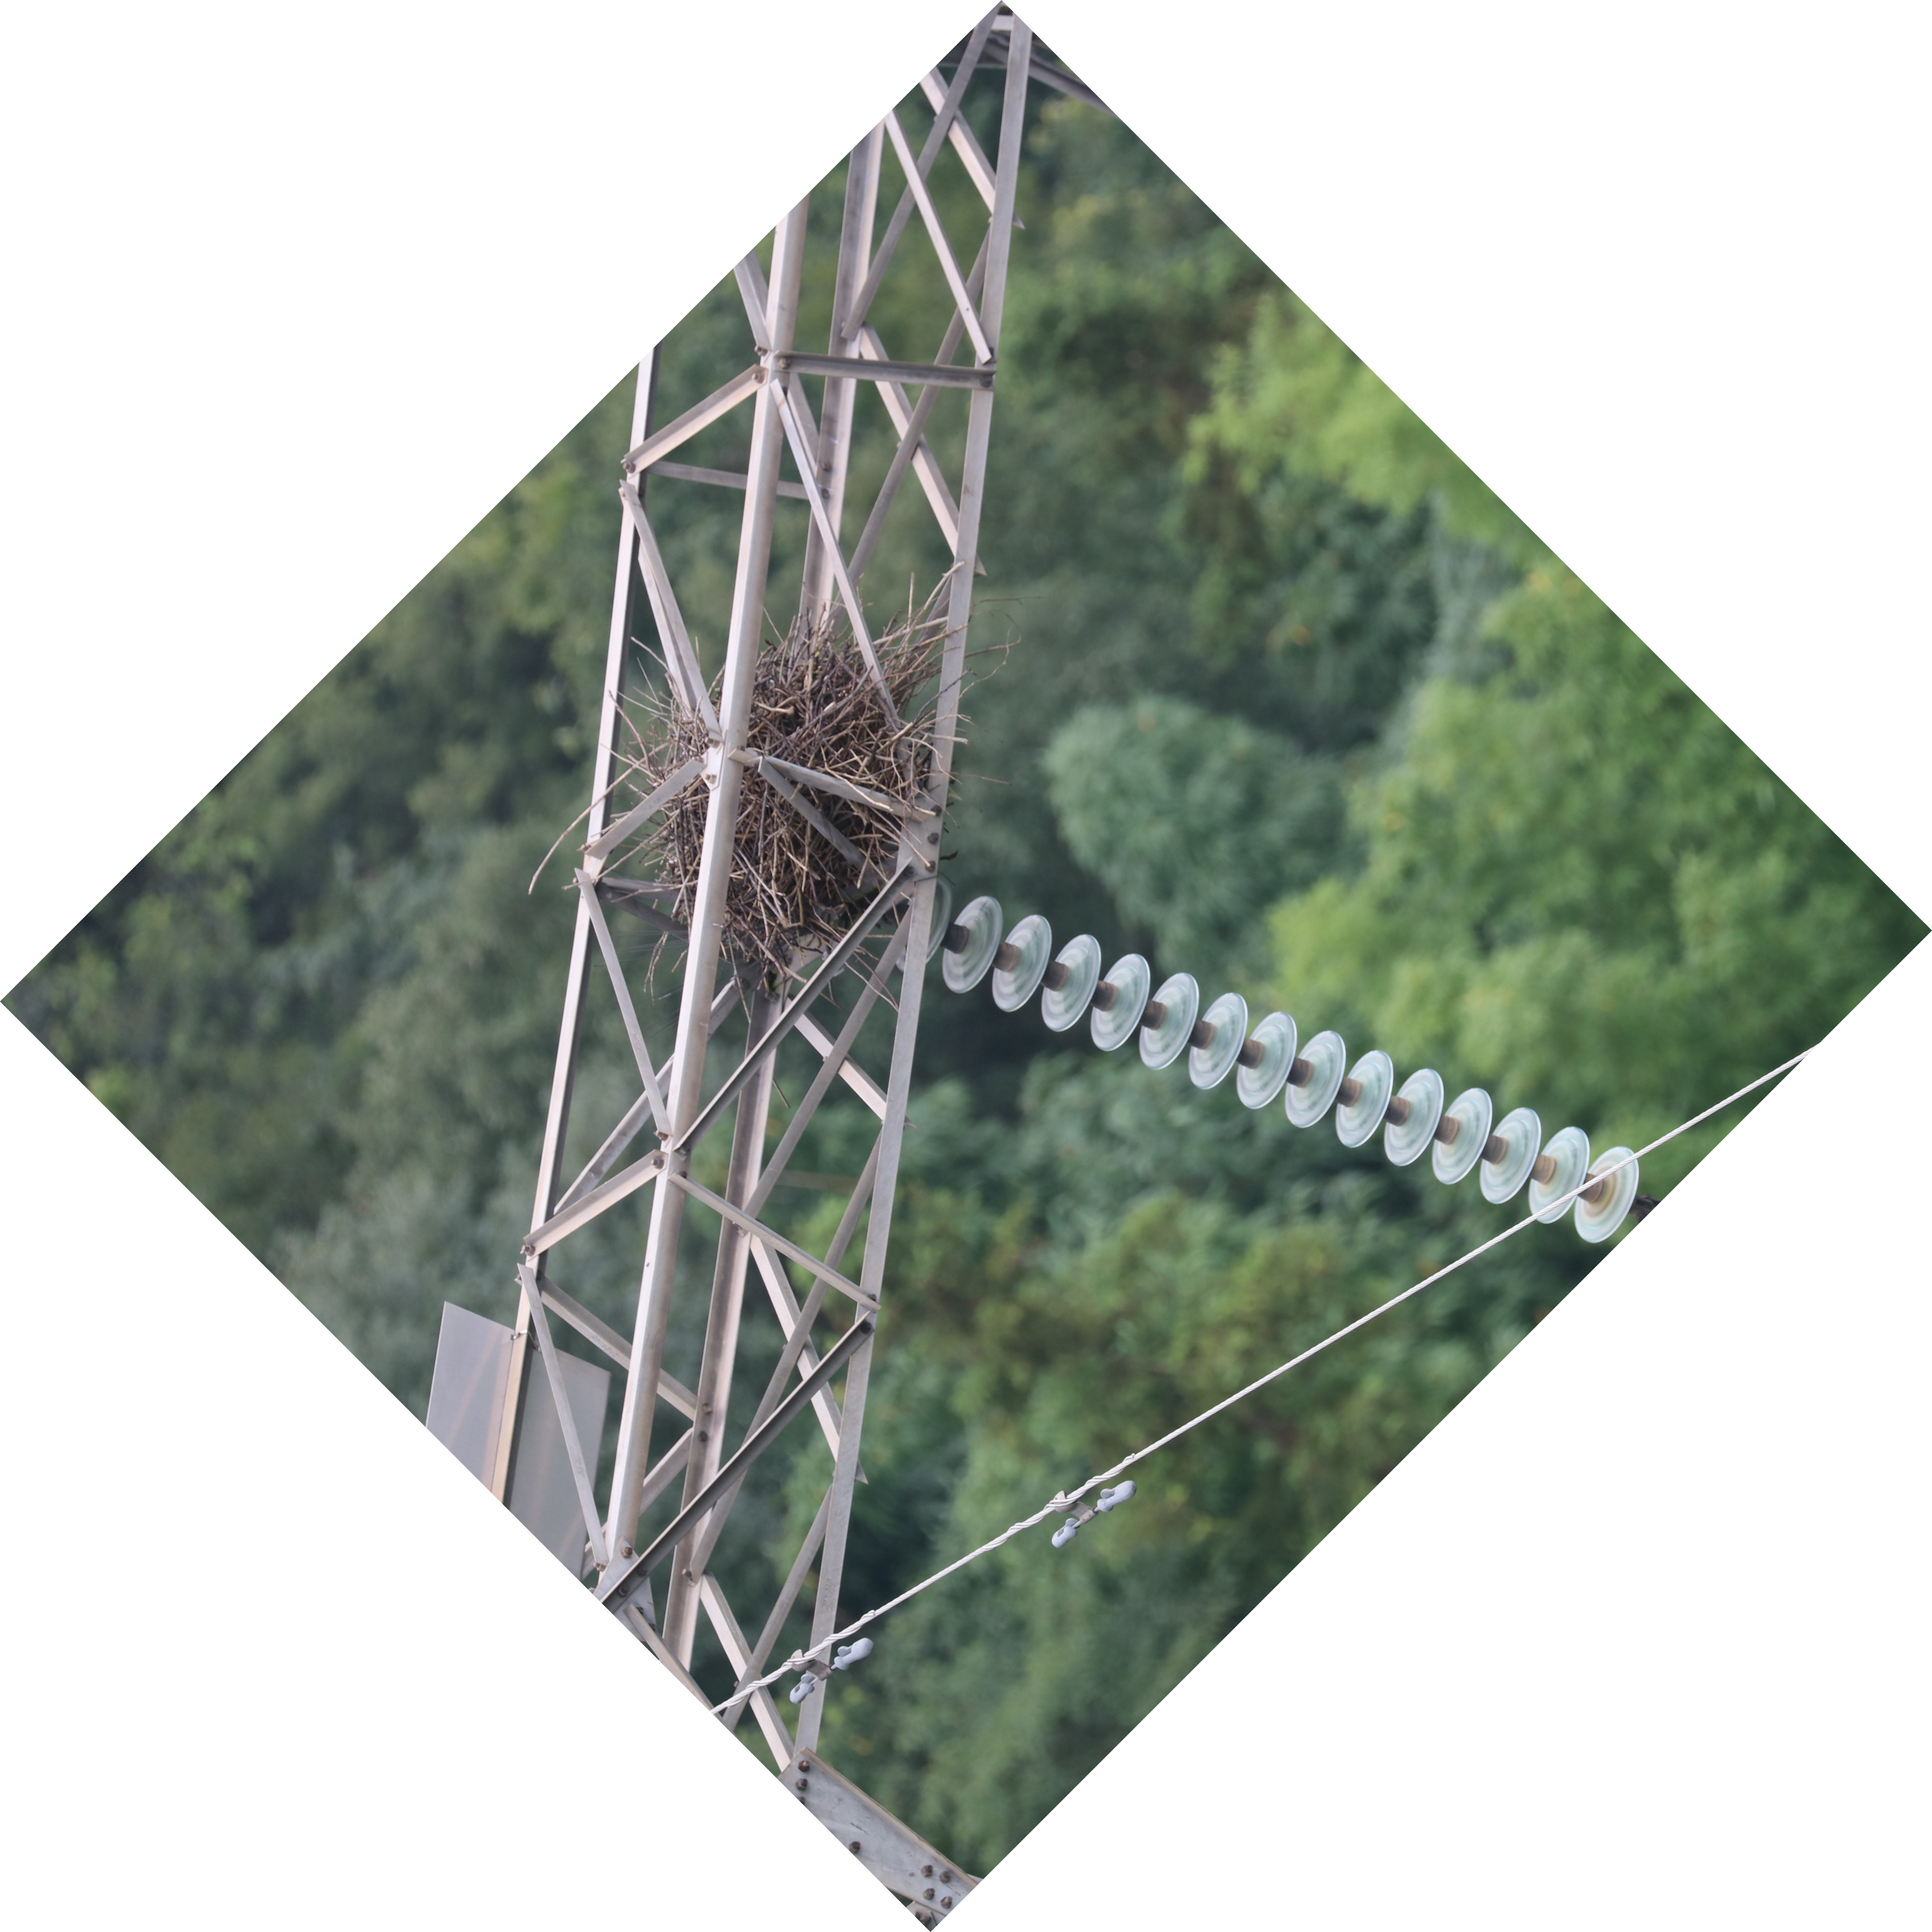niaowo: (605, 603, 996, 982)
